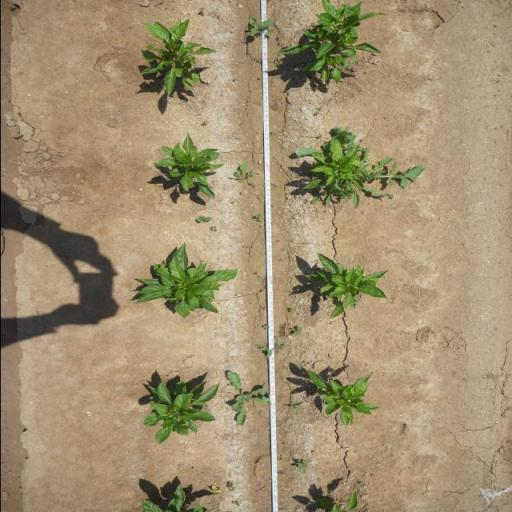plant: (277, 0, 390, 86), (130, 241, 238, 321), (136, 16, 219, 97), (303, 248, 392, 321), (139, 378, 221, 448), (153, 128, 227, 200), (304, 368, 382, 429), (308, 143, 364, 189), (141, 484, 209, 512), (319, 487, 360, 512)
weed: (311, 141, 427, 214), (222, 369, 272, 426), (254, 337, 287, 359), (248, 16, 275, 36), (231, 162, 255, 183), (293, 458, 308, 474), (194, 214, 212, 224), (249, 212, 264, 222), (291, 324, 302, 336), (230, 498, 241, 509), (224, 482, 236, 492), (289, 402, 301, 411), (210, 485, 220, 495), (277, 454, 286, 462), (289, 306, 297, 314), (208, 226, 218, 232), (261, 324, 269, 330), (198, 6, 204, 13), (201, 120, 208, 126), (313, 111, 319, 116), (252, 271, 258, 276), (247, 182, 254, 186)
